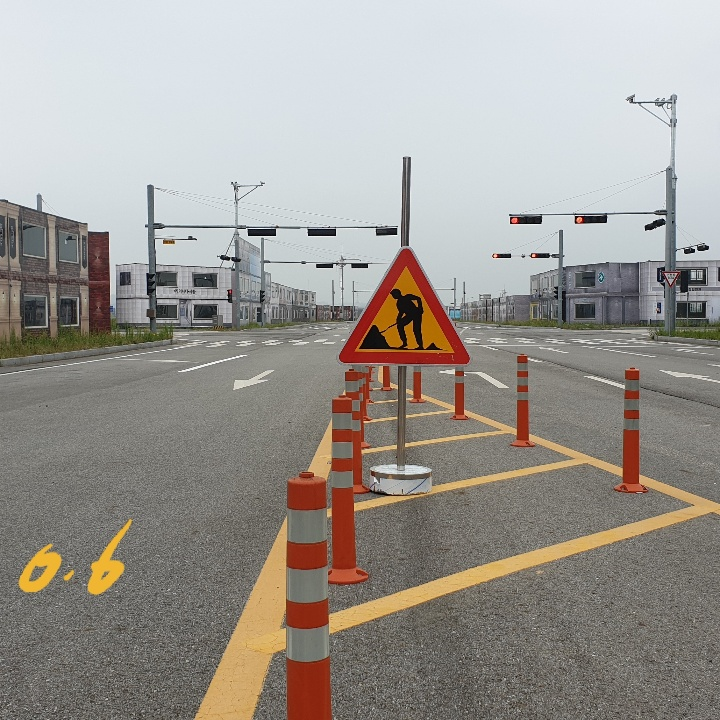const: (351, 278, 447, 353)
